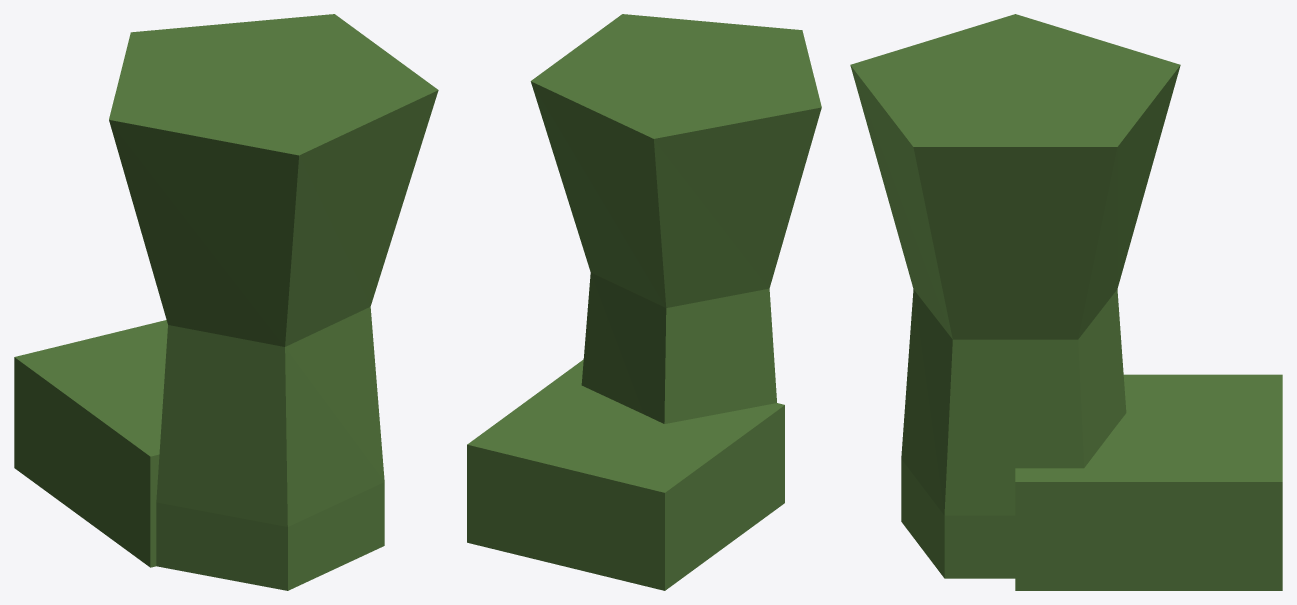
The model's file is animal_iguana_leg.obj.
3 renders of one model, left to right at view 1: azimuth 30°, elevation 25°; view 2: azimuth 150°, elevation 25°; view 3: azimuth 270°, elevation 25°, orthographic. The views are drawn at different scales.
Visible parts, largest first — view 1: animal_iguana_leg; view 2: animal_iguana_leg; view 3: animal_iguana_leg.
Part boxes in pixels (<box>): animal_iguana_leg: <box>14,14,438,590</box>; animal_iguana_leg: <box>467,14,821,590</box>; animal_iguana_leg: <box>850,14,1282,590</box>.
Size of the model in its own units: 0.0568 by 0.0895 by 0.078.
